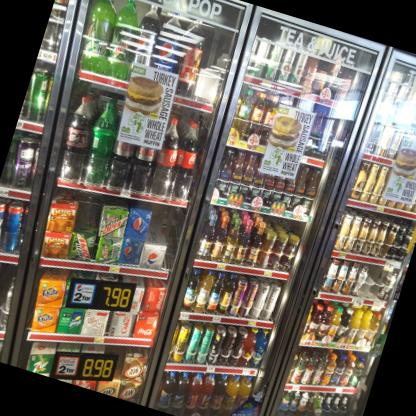empty_space: (191, 48, 227, 106)
